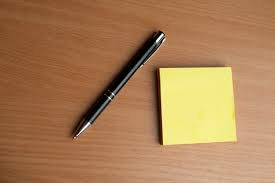pen: (73, 30, 165, 137)
